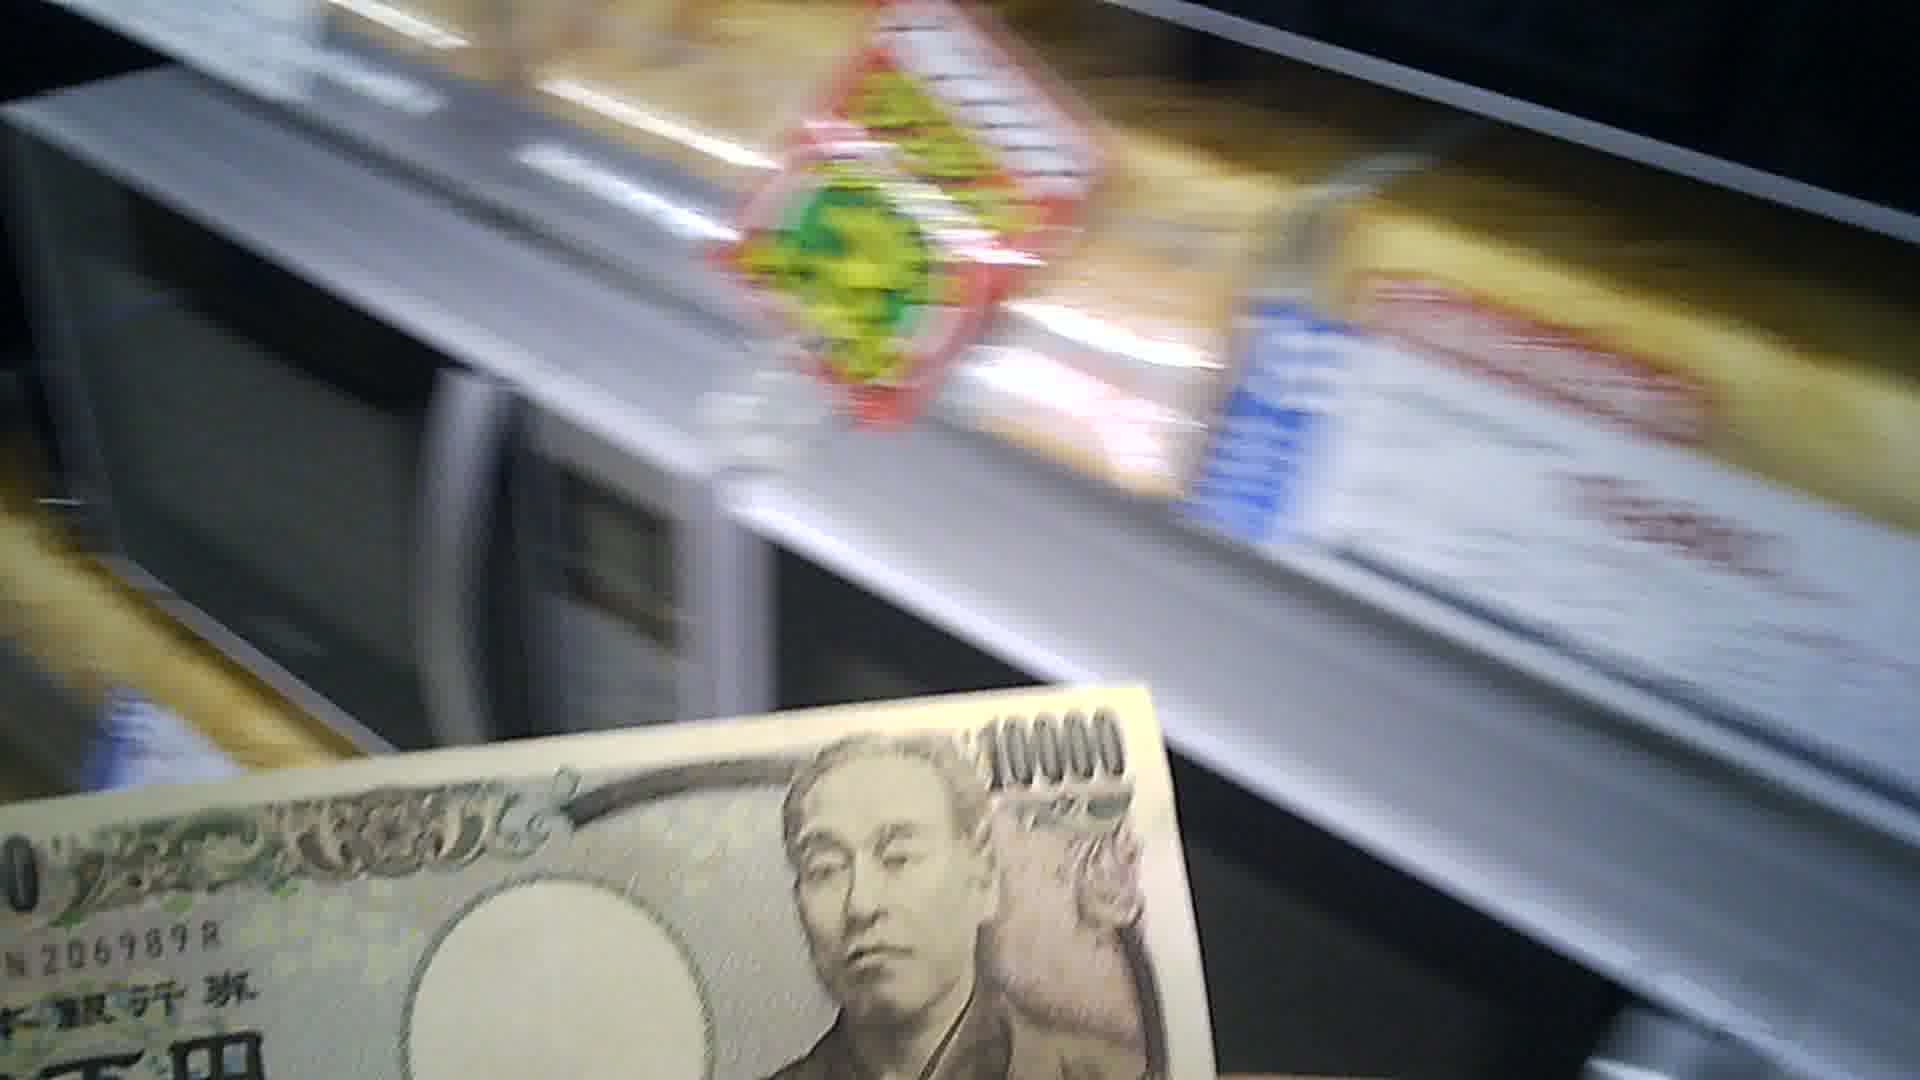10,000 Yen: (15, 655, 1221, 1073)
